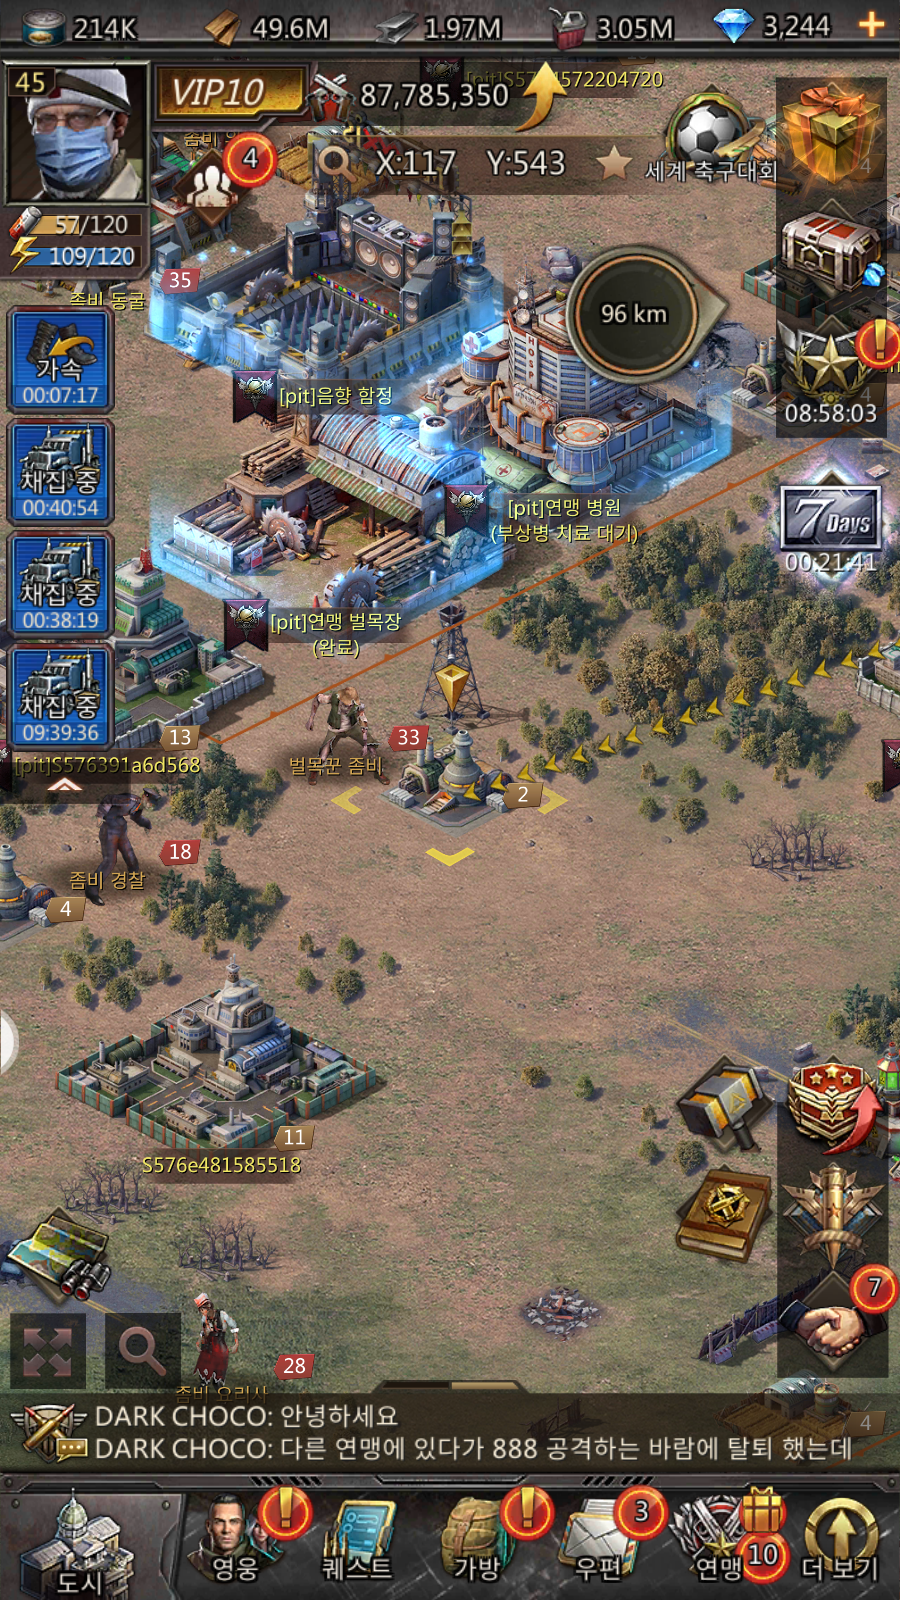city: (7, 1487, 174, 1600)
occupied_steel: (315, 649, 589, 882)
open_panel: (95, 1302, 193, 1404)
troops_cnt_4: (164, 122, 287, 233)
